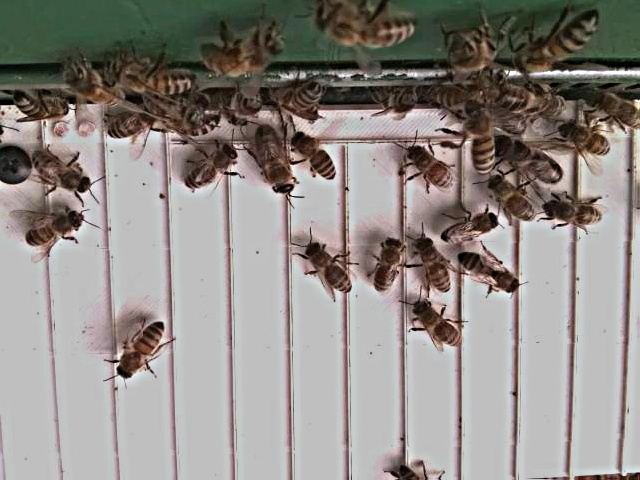Drone: (494, 133, 567, 189), (250, 123, 300, 200)
Worker: (114, 319, 170, 384), (456, 248, 524, 298), (303, 240, 356, 298), (34, 150, 98, 198), (400, 144, 458, 193), (412, 300, 465, 352), (22, 209, 87, 251), (413, 232, 454, 296), (184, 145, 238, 192), (486, 177, 538, 224), (543, 198, 607, 236), (465, 103, 497, 177), (558, 120, 615, 161), (372, 236, 410, 297), (294, 134, 339, 185), (442, 212, 502, 249), (106, 110, 164, 144)
